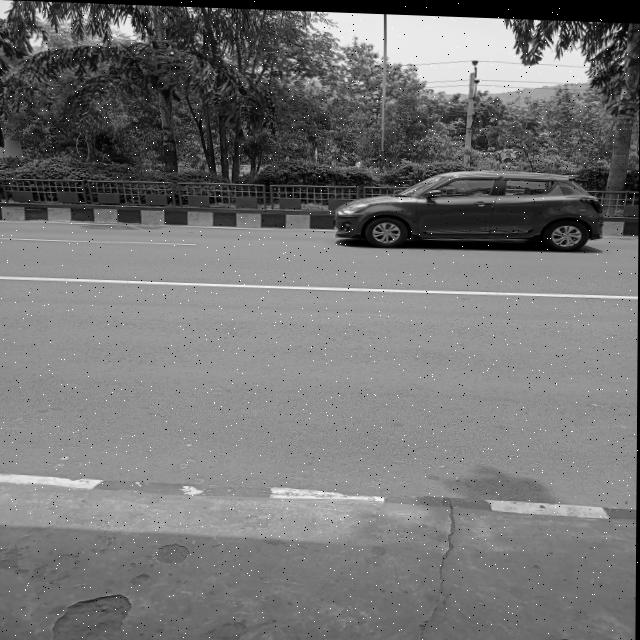car: (330, 151, 615, 251)
